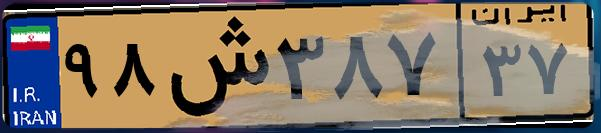3: (270, 28, 330, 110), (475, 38, 525, 113)
7: (385, 28, 445, 110), (525, 38, 570, 115)
8: (330, 28, 385, 110), (110, 28, 158, 98)
9: (57, 26, 110, 100)
ش: (158, 12, 270, 120)
